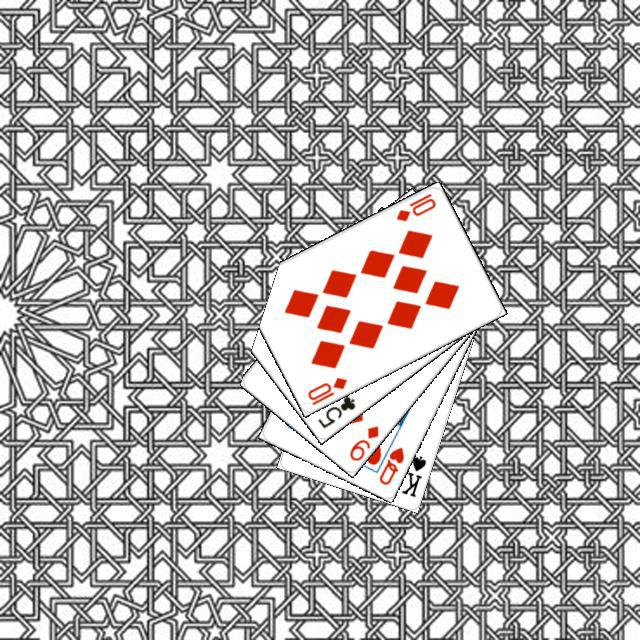10d: (391, 188, 438, 223), (303, 372, 349, 407)
5c: (313, 391, 357, 430)
9d: (344, 420, 380, 463)
Ks: (396, 451, 428, 499)
Qh: (374, 442, 406, 487)
